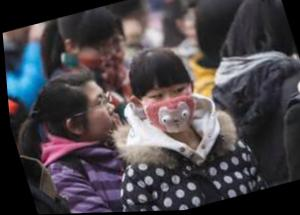NONE: (77, 85, 124, 145)
OK: (137, 74, 203, 140)
WRONG: (76, 30, 132, 87)
